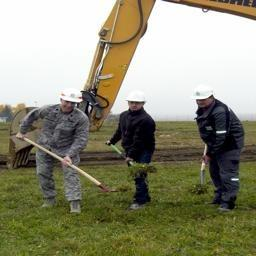hat: (57, 81, 88, 118), (122, 85, 154, 116), (190, 82, 216, 116)
no vest: (38, 106, 94, 188), (186, 102, 248, 170), (114, 108, 156, 168)
